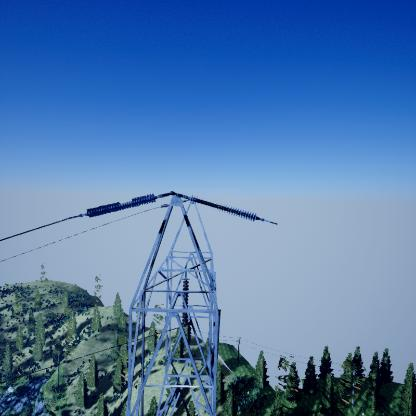insulator: (185, 195, 258, 221), (86, 193, 159, 218), (183, 280, 190, 327)
